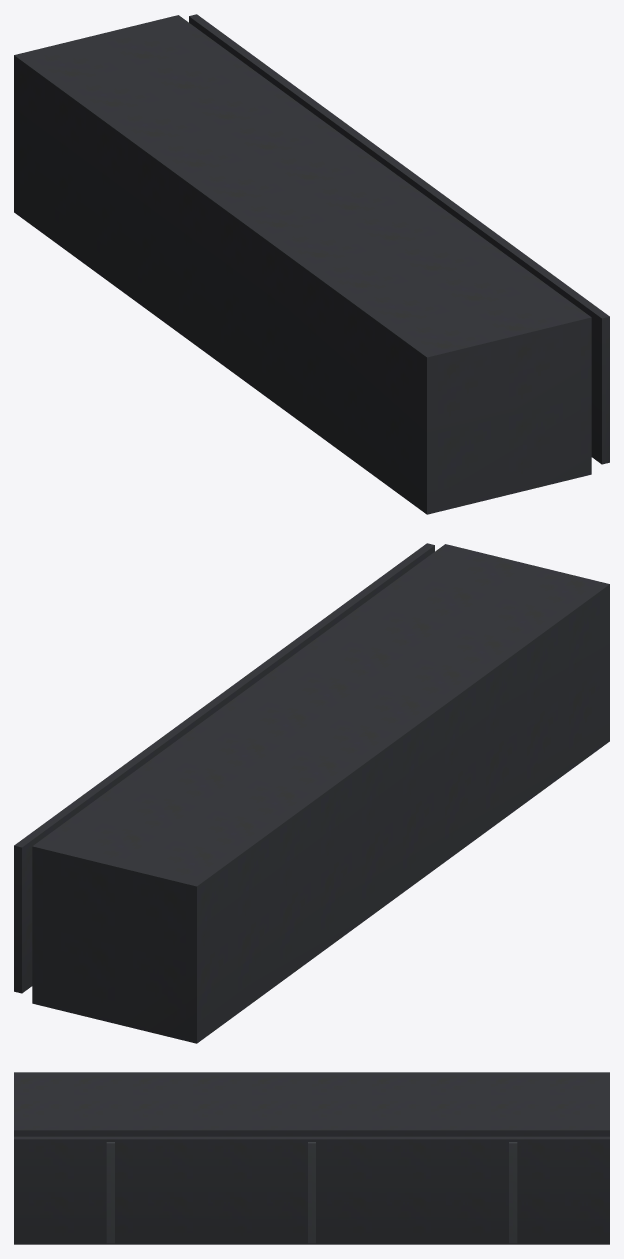
File: tyre-wall_far.glb
The picture shows the model from 3 angles, top to bottom: view 1: azimuth 30°, elevation 25°; view 2: azimuth 150°, elevation 25°; view 3: azimuth 270°, elevation 25°; orthographic projection. The views are drawn at different scales.
Parts seen in each view (by area): view 1: rubber; view 2: rubber; view 3: rubber, dark-steel.
Boxes of the visible parts, x1,y1,x2,y2 form: rubber: (14,14,609,514); rubber: (14,543,609,1043); rubber: (14,1072,609,1244); dark-steel: (106,1142,517,1243).
Bounding box in the file's own units: 1.04 × 0.8399 × 4.
Materials: 2 (2 with a texture image).
